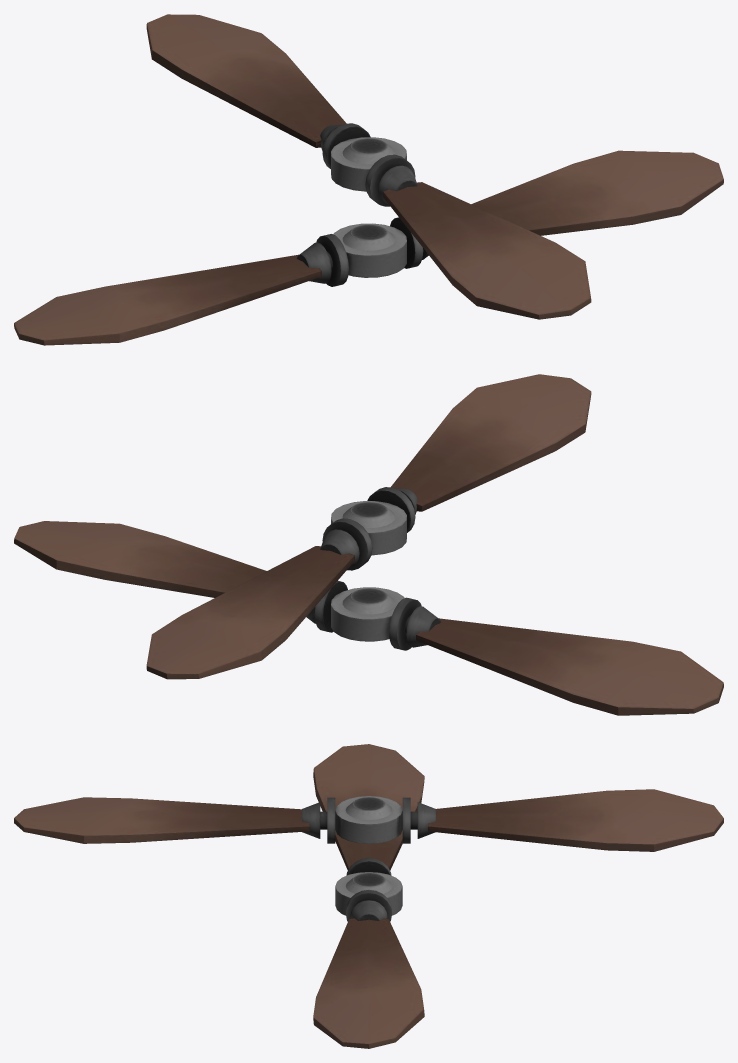
File: spin-01.obj
The picture shows the model from 3 angles, top to bottom: view 1: azimuth 30°, elevation 25°; view 2: azimuth 150°, elevation 25°; view 3: azimuth 270°, elevation 25°; orthographic projection. The views are drawn at different scales.
Visible parts, largest first — view 1: spin-01.obj; view 2: spin-01.obj; view 3: spin-01.obj.
Boxes of the visible parts, left/top/right/bottom form: spin-01.obj: left=14, top=14, right=723, bottom=345; spin-01.obj: left=14, top=374, right=723, bottom=715; spin-01.obj: left=14, top=744, right=723, bottom=1048.
Size of the model in its own units: 0.5839 by 0.1069 by 0.5839.
Materials: 1 (1 with a texture image).
